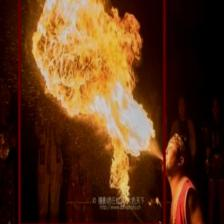fire: (18, 0, 165, 224)
